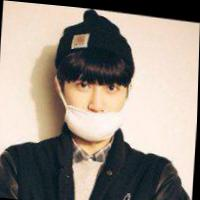WRONG: (61, 69, 130, 141)
